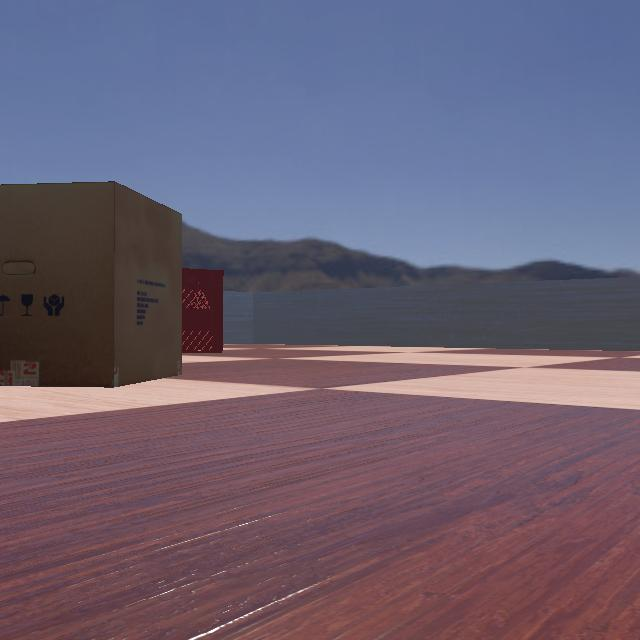cardboard-box: (0, 180, 186, 390)
